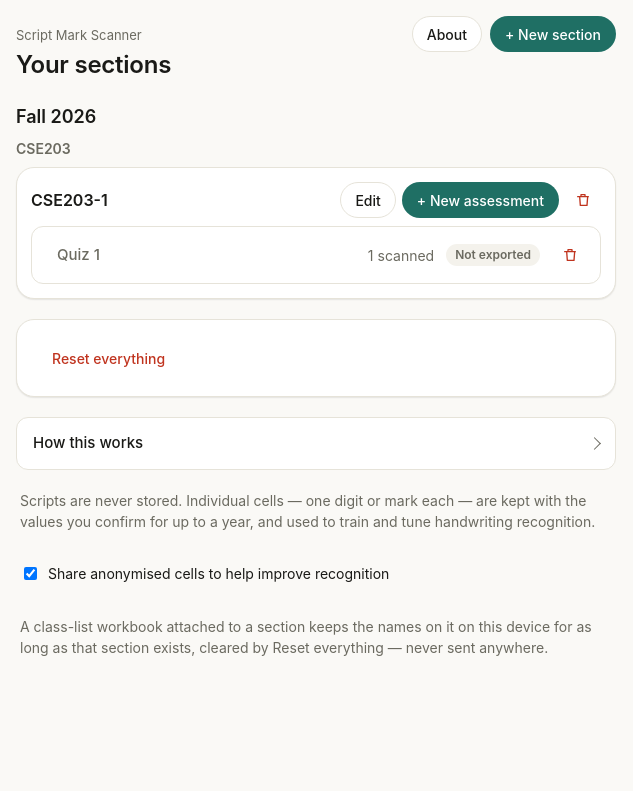
Test: Library — Reset everything › clears every section, assessment and record
The image size is (633, 791).
Click the button "Reset everything" at [109, 358], box [37,340,180,376]
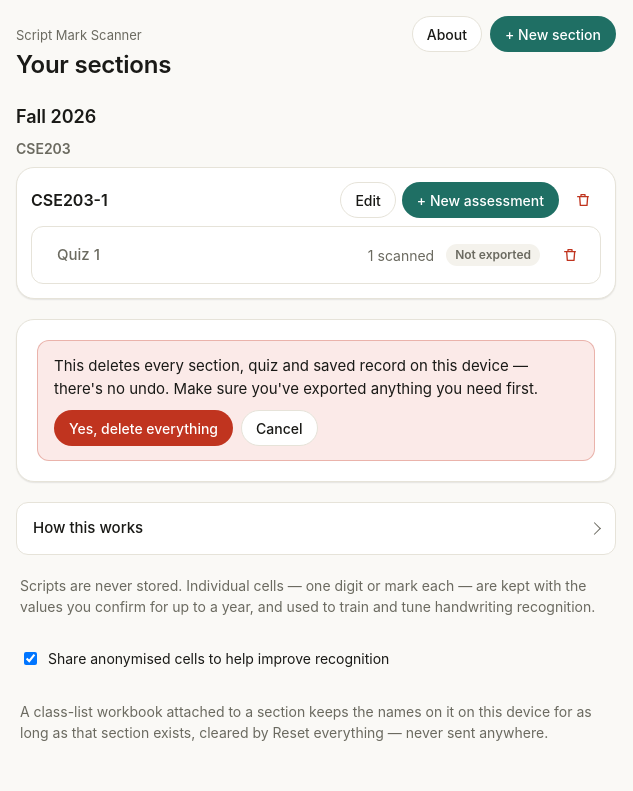
Click the button "Yes, delete everything" at [144, 428], box [54,410,233,446]
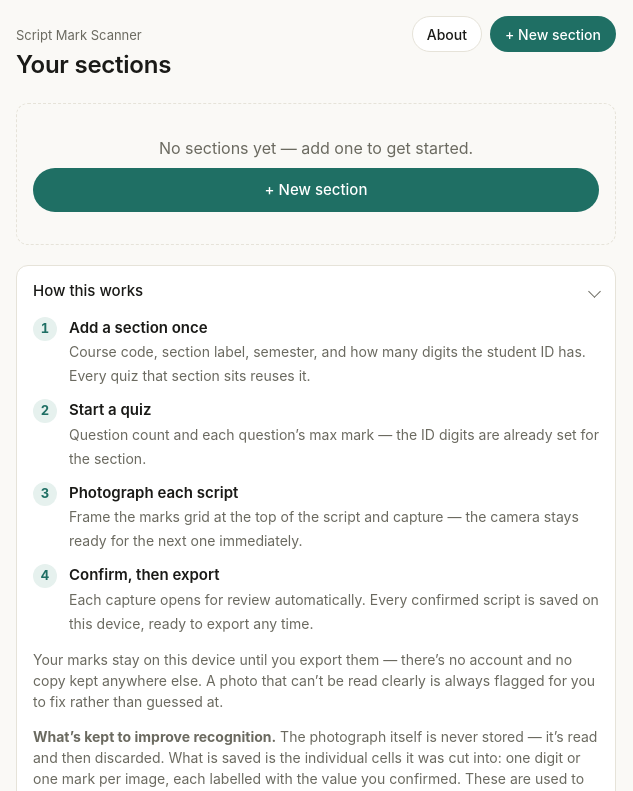
Result: the text "No sections yet — add one to get started." is shown at [159,138,473,158]
